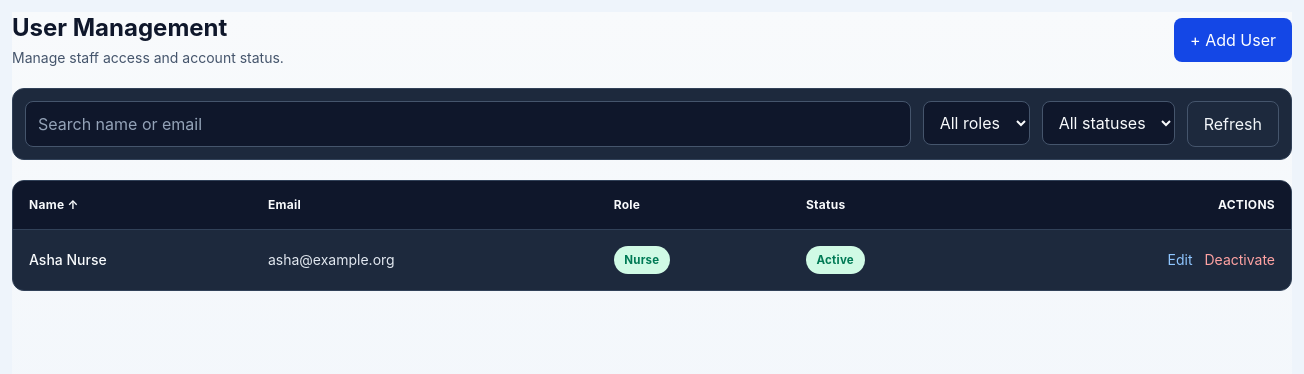
Admin user management › loads staff records and provides client side search
Expected: the text "Asha Nurse" is shown, [13,230,252,290]
Type "missing" into the field with placeholder "Search name or email" at (468, 124), box [25,101,911,147]
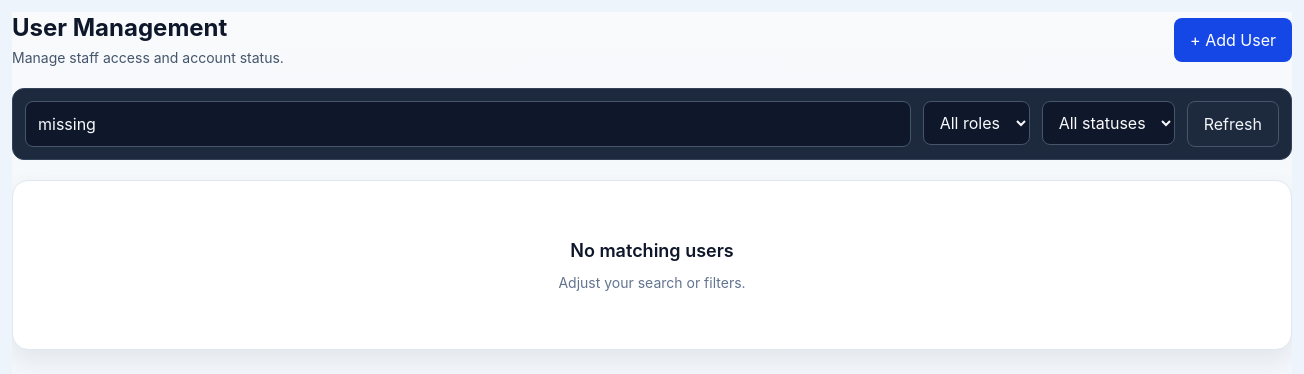
Now the heading "No matching users" is shown, box [570,237,734,265]
